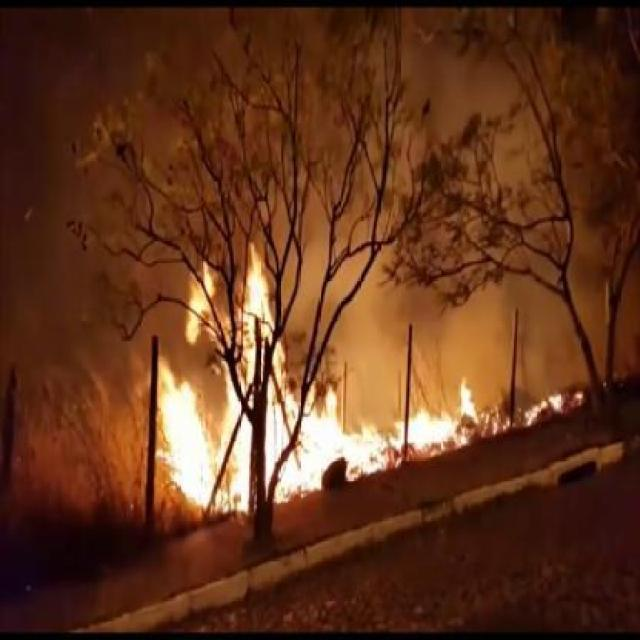Fire: (151, 357, 254, 520), (336, 377, 482, 483), (263, 358, 351, 505), (236, 245, 279, 394), (182, 269, 219, 345), (523, 391, 562, 426), (480, 408, 514, 437)
